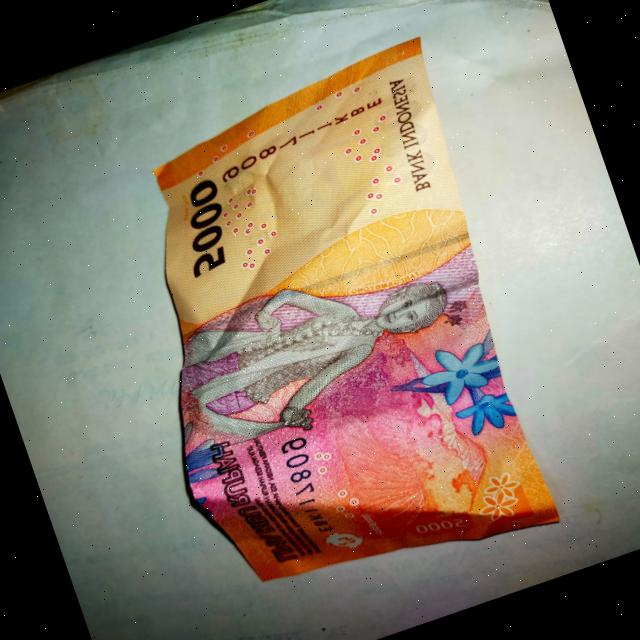5K: (66, 22, 594, 640)
